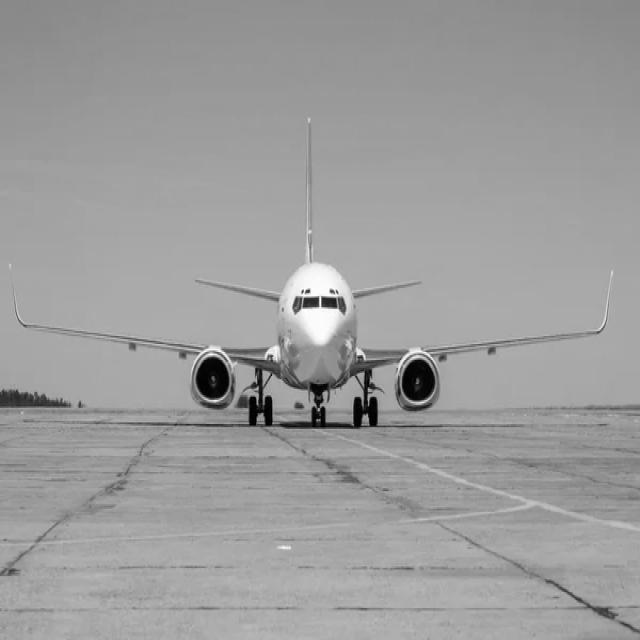Aircraft: (12, 114, 627, 435)
